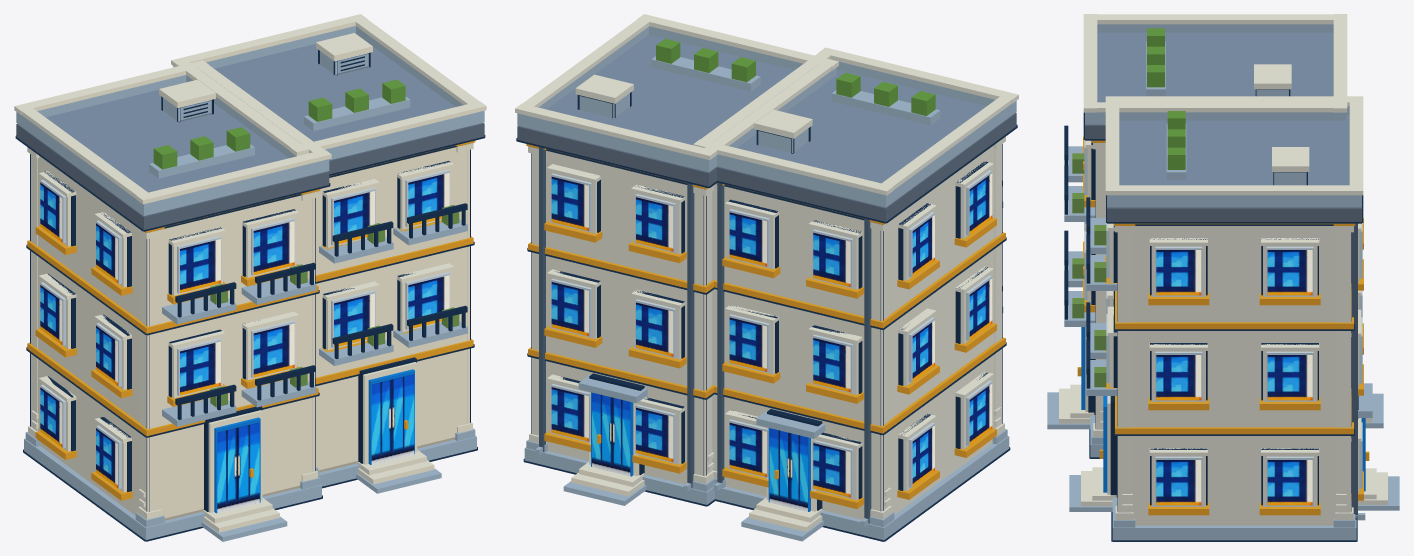
The picture shows the model from 3 angles, left to right: view 1: azimuth 30°, elevation 25°; view 2: azimuth 150°, elevation 25°; view 3: azimuth 270°, elevation 25°; orthographic projection. The views are drawn at different scales.
Visible parts, largest first — view 1: A04 转角凹廊公寓; view 2: A04 转角凹廊公寓; view 3: A04 转角凹廊公寓.
Part boxes in pixels (left/top/right/bottom): A04 转角凹廊公寓: left=14, top=14, right=486, bottom=541; A04 转角凹廊公寓: left=515, top=14, right=1018, bottom=541; A04 转角凹廊公寓: left=1047, top=14, right=1399, bottom=541.
Bounding box in the file's own units: 8.38 × 8.02 × 7.03.
Materials: 2 (1 with a texture image).
